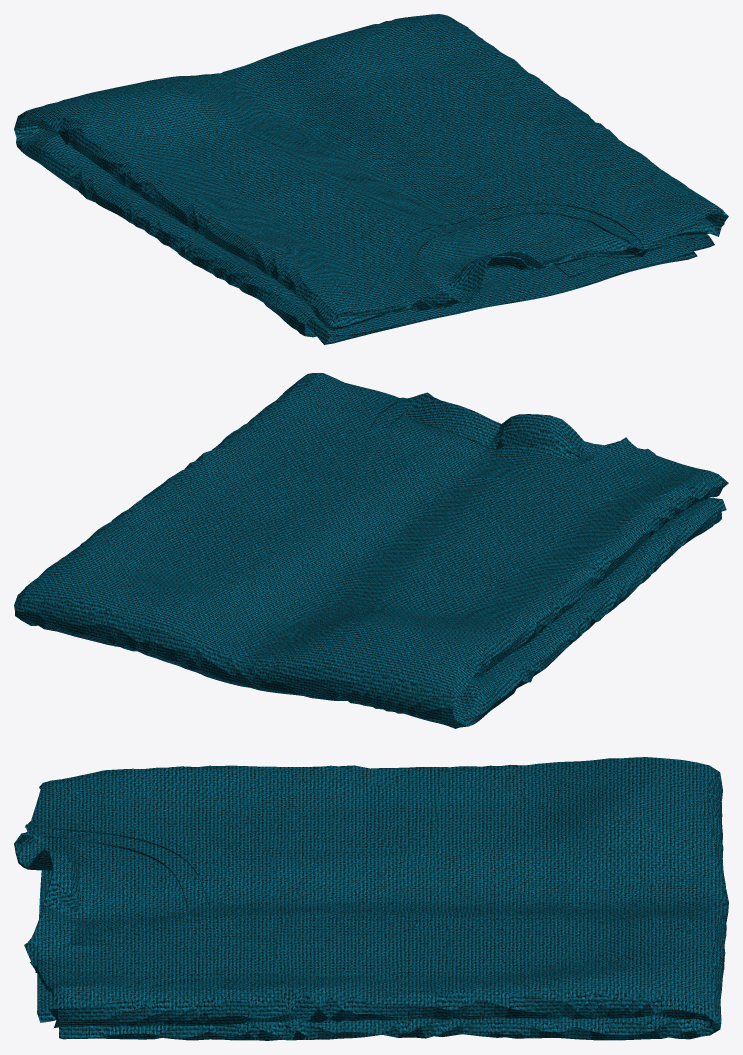
File: T_shirt_body_290.fbx
3 renders of one model, top to bottom at view 1: azimuth 30°, elevation 25°; view 2: azimuth 150°, elevation 25°; view 3: azimuth 270°, elevation 25°, orthographic. The views are drawn at different scales.
Parts seen in each view (by area): view 1: T_shirt_body_290; view 2: T_shirt_body_290; view 3: T_shirt_body_290.
Boxes of the visible parts, bbox=[...] form: T_shirt_body_290: bbox=[14, 14, 728, 344]; T_shirt_body_290: bbox=[14, 373, 728, 728]; T_shirt_body_290: bbox=[14, 757, 728, 1040].
Bounding box in the file's own units: 10.23 × 1.33 × 12.33.
